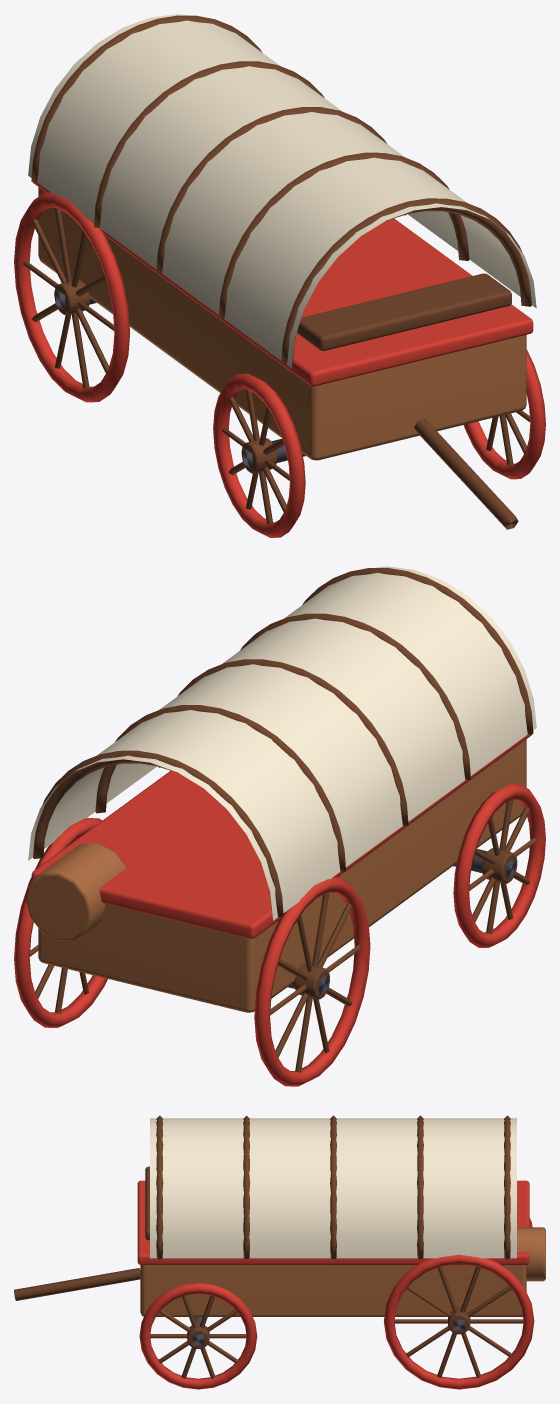
The model's file is gulch_wagon.glb.
The picture shows the model from 3 angles, top to bottom: view 1: azimuth 30°, elevation 25°; view 2: azimuth 150°, elevation 25°; view 3: azimuth 270°, elevation 25°; orthographic projection. The views are drawn at different scales.
Visible parts, largest first — view 1: Wagon; view 2: Wagon; view 3: Wagon.
Part boxes in pixels (x1,y1,x2,y2): Wagon: (14,14,545,537); Wagon: (14,566,545,1086); Wagon: (14,1115,545,1389).
Bounding box in the file's own units: 2.2 × 2.56 × 5.51.
